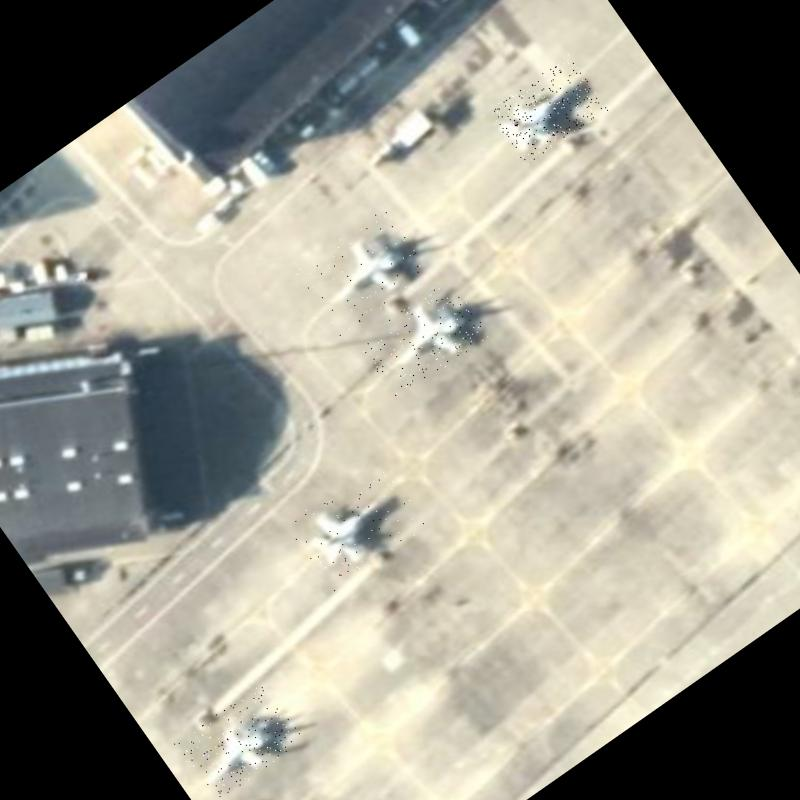A16: (286, 458, 428, 592), (292, 207, 432, 340), (356, 277, 491, 401), (174, 680, 306, 800), (485, 54, 608, 168)
